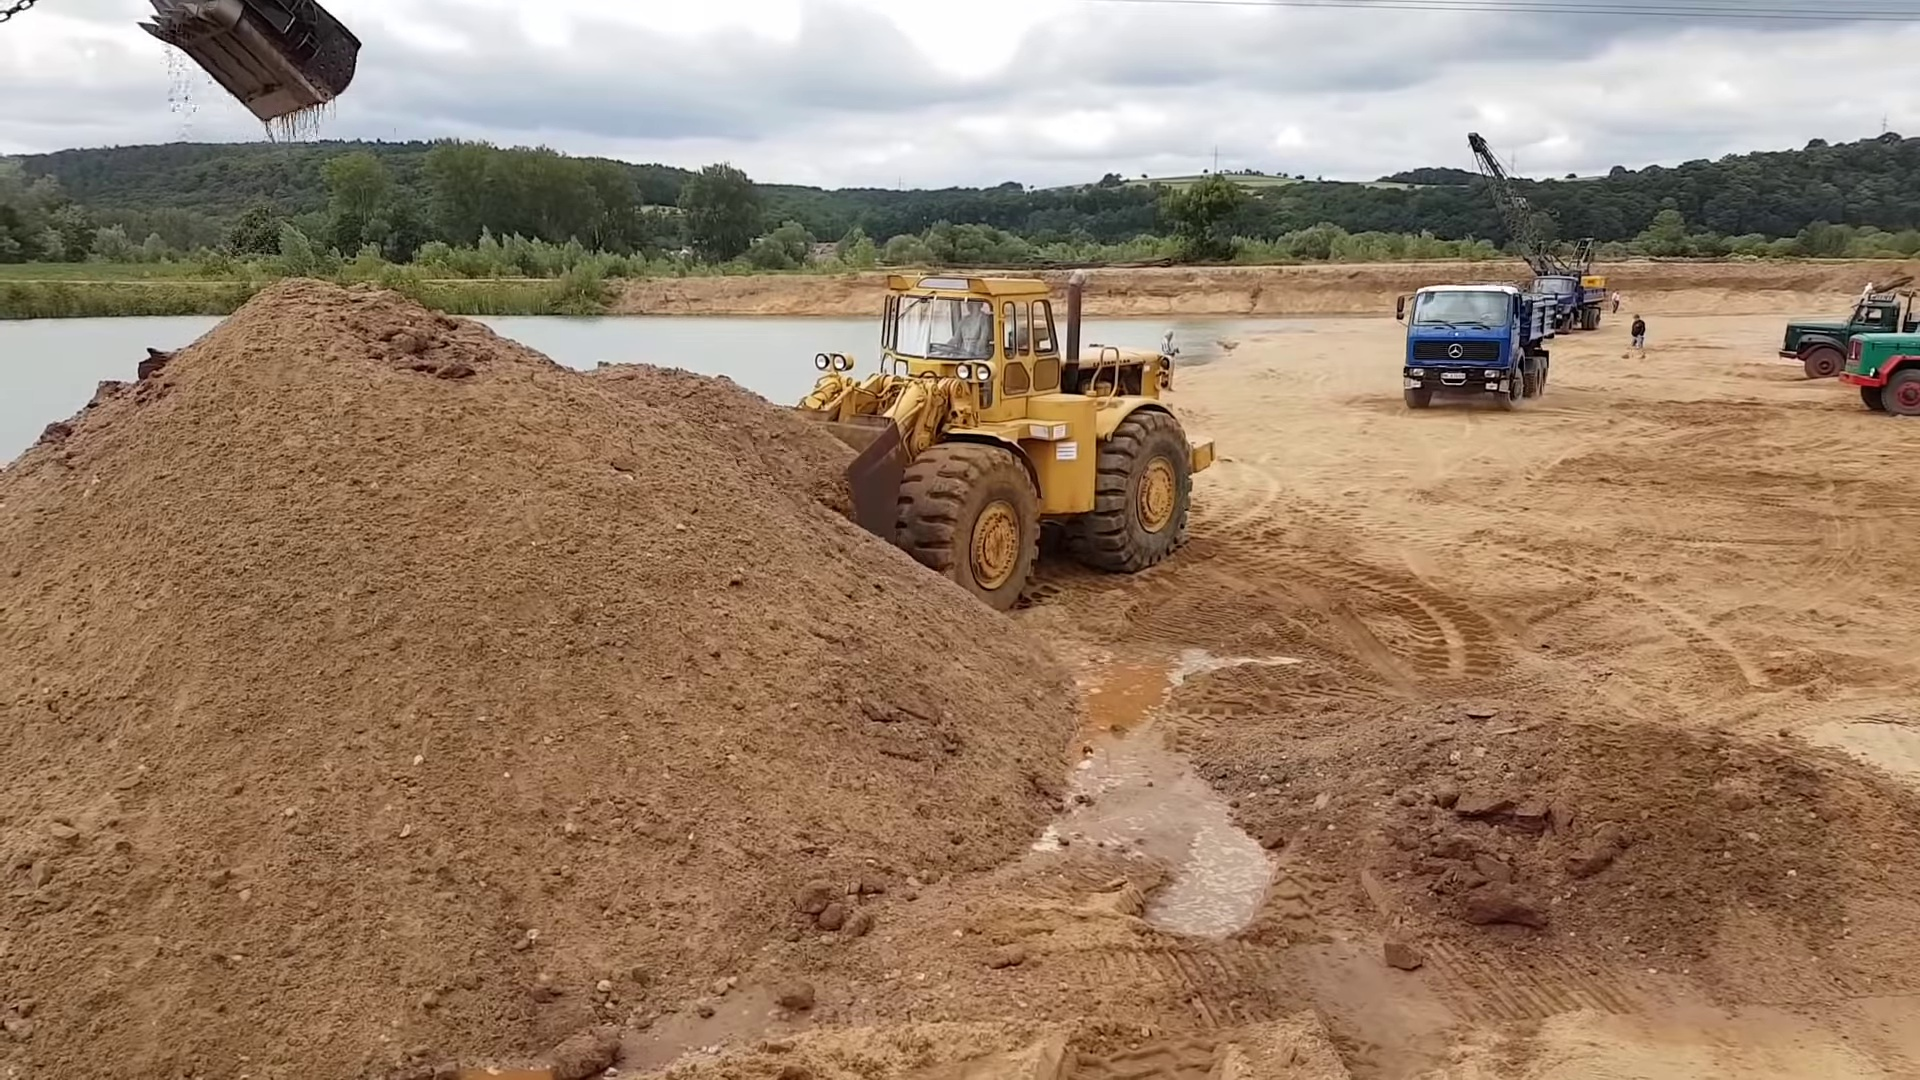person: (1625, 309, 1653, 356)
truck: (1393, 277, 1552, 404)
wheel loader: (697, 254, 1219, 587)
